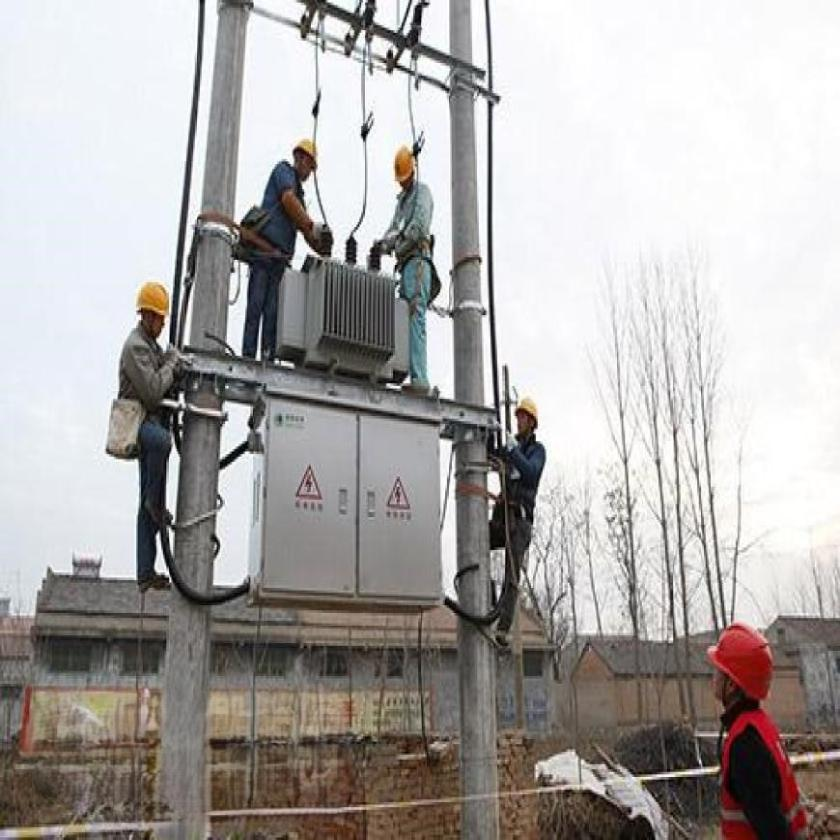Con_casco: (127, 272, 178, 350), (513, 395, 540, 440), (293, 140, 317, 185), (394, 146, 420, 186)
